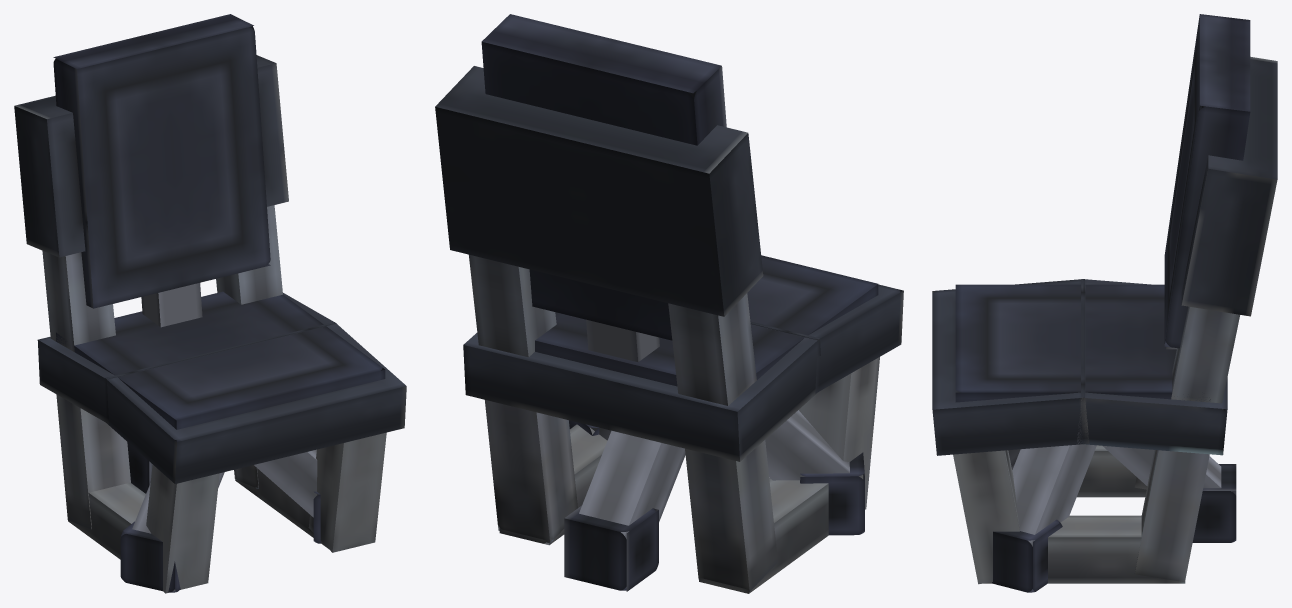
Rendered from Chair_02.fbx.
The picture shows the model from 3 angles, left to right: view 1: azimuth 30°, elevation 25°; view 2: azimuth 150°, elevation 25°; view 3: azimuth 270°, elevation 25°; orthographic projection. The views are drawn at different scales.
Visible parts, largest first — view 1: cube_12, cube_11, cube_1, cube_3, cube_8, cube_10, cube, cube_7, cube_2, cube_4, cube_18, cube_6 (+4 smaller); view 2: cube_3, cube_12, cube_2, cube_11, cube, cube_9, cube_7, cube_14, cube_17, cube_6, cube_1, cube_10 (+5 smaller); view 3: cube_11, cube_3, cube_12, cube_1, cube_2, cube_9, cube_5, cube_8, cube_15, cube_6, cube_19, cube_17 (+2 smaller).
Part boxes in pixels (x1=…): cube_12: x1=53, y1=14, x2=270, y2=308; cube_11: x1=56, y1=291, x2=385, y2=441; cube_1: x1=105, y1=322, x2=406, y2=483; cube_3: x1=14, y1=55, x2=288, y2=257; cube_8: x1=308, y1=432, x2=386, y2=552; cube_10: x1=146, y1=464, x2=219, y2=593; cube: x1=56, y1=394, x2=130, y2=529; cube_7: x1=42, y1=250, x2=115, y2=352; cube_2: x1=37, y1=293, x2=336, y2=423; cube_4: x1=68, y1=482, x2=145, y2=559; cube_18: x1=120, y1=521, x2=180, y2=592; cube_6: x1=216, y1=205, x2=282, y2=304; cube_3: x1=435, y1=66, x2=763, y2=316; cube_12: x1=481, y1=14, x2=726, y2=340; cube_2: x1=463, y1=321, x2=820, y2=461; cube_11: x1=535, y1=255, x2=878, y2=386; cube: x1=685, y1=440, x2=777, y2=591; cube_9: x1=485, y1=400, x2=577, y2=542; cube_7: x1=668, y1=293, x2=756, y2=405; cube_14: x1=579, y1=430, x2=685, y2=538; cube_17: x1=564, y1=505, x2=658, y2=591; cube_6: x1=469, y1=254, x2=556, y2=357; cube_1: x1=750, y1=284, x2=903, y2=393; cube_10: x1=799, y1=357, x2=879, y2=509; cube_11: x1=955, y1=284, x2=1210, y2=402; cube_3: x1=1181, y1=56, x2=1277, y2=316; cube_12: x1=1164, y1=14, x2=1250, y2=348; cube_1: x1=932, y1=279, x2=1089, y2=455; cube_2: x1=1077, y1=279, x2=1227, y2=455; cube_9: x1=1134, y1=450, x2=1209, y2=582; cube_5: x1=984, y1=515, x2=1185, y2=583; cube_8: x1=953, y1=450, x2=1019, y2=584; cube_15: x1=1012, y1=444, x2=1096, y2=546; cube_6: x1=1171, y1=306, x2=1239, y2=403; cube_19: x1=992, y1=519, x2=1062, y2=592; cube_17: x1=1192, y1=464, x2=1236, y2=542.
Bounding box in the file's own units: 75.24 × 127 × 84.45.
